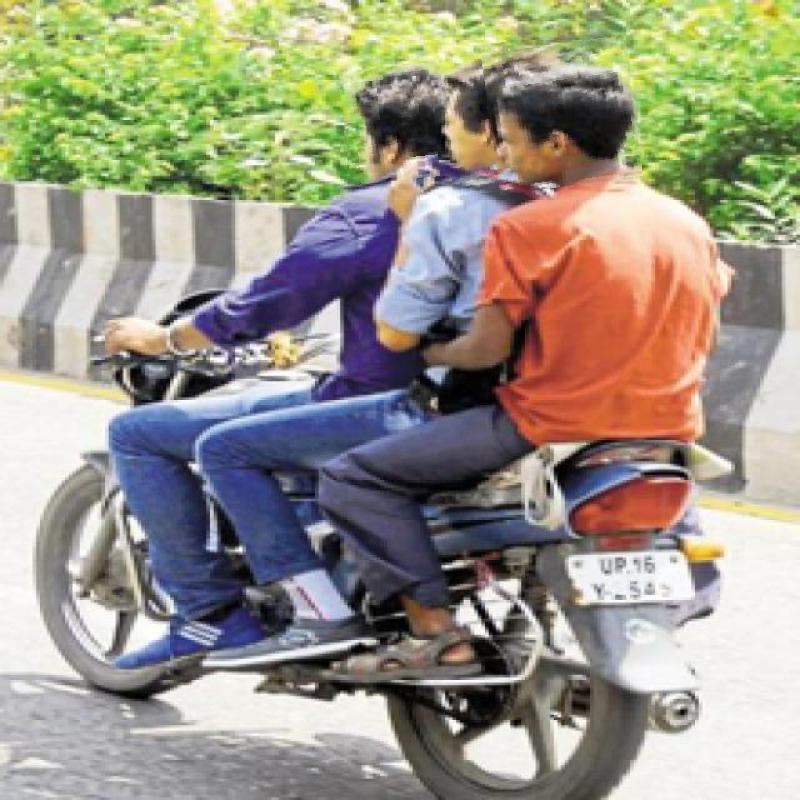nohelmet: (486, 39, 639, 190), (442, 43, 520, 194), (342, 66, 437, 184)
